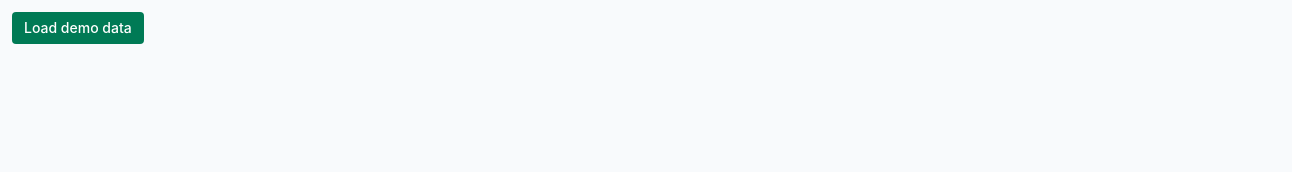
Test: DemoLoadButton › shows an error state when the demo endpoint fails
Click the button with test id "demo-load-button": (78,28) [12, 12, 144, 44]
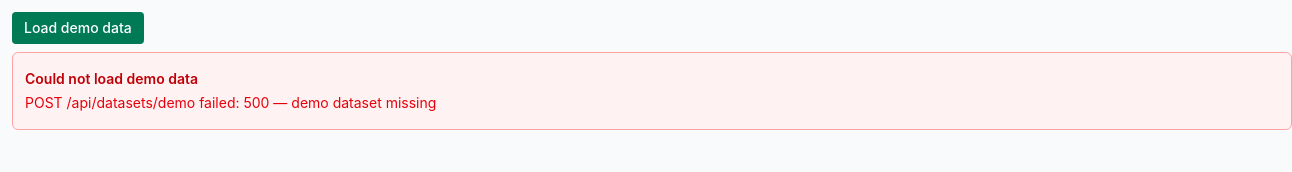
Expected: the message with test id "error-state" shows "Could not load demo data", [25, 70, 198, 87]
Expected: the message with test id "error-state" shows "demo dataset missing", [25, 94, 436, 111]
